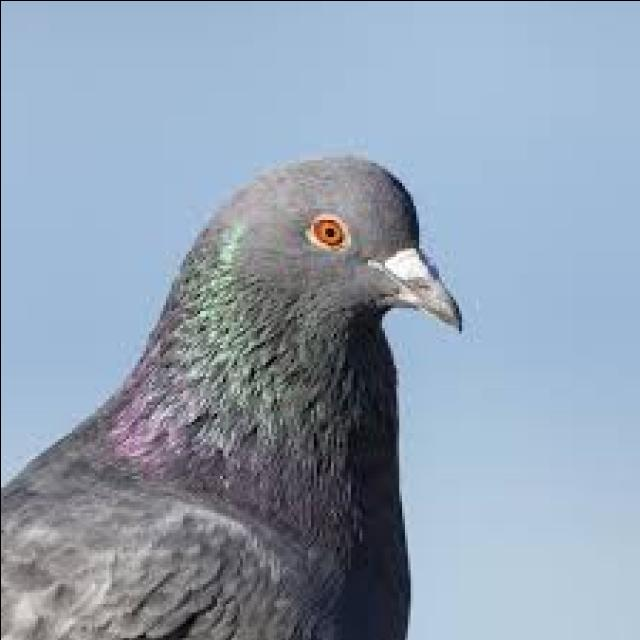pigeon: (0, 105, 470, 640)
